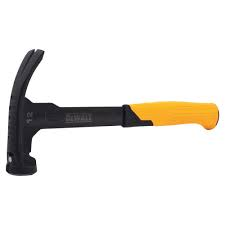hammer: (6, 48, 220, 177)
